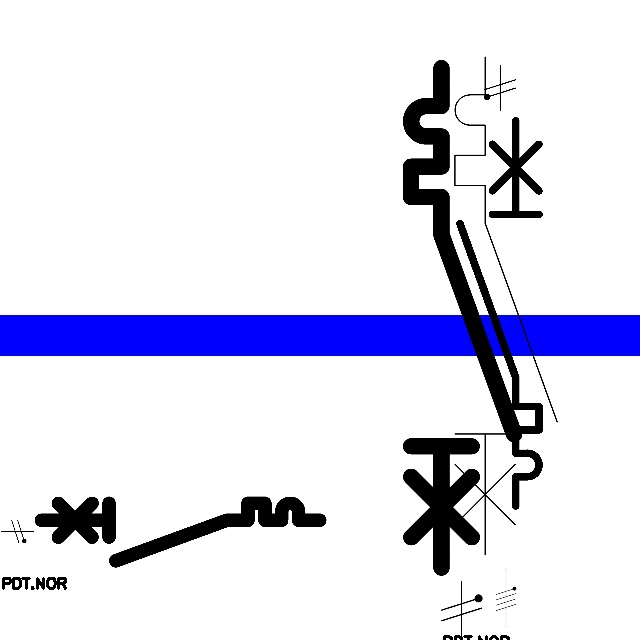interruptor_termomagnetico: (398, 55, 526, 581), (442, 44, 570, 567), (450, 110, 549, 515), (34, 496, 327, 567)
